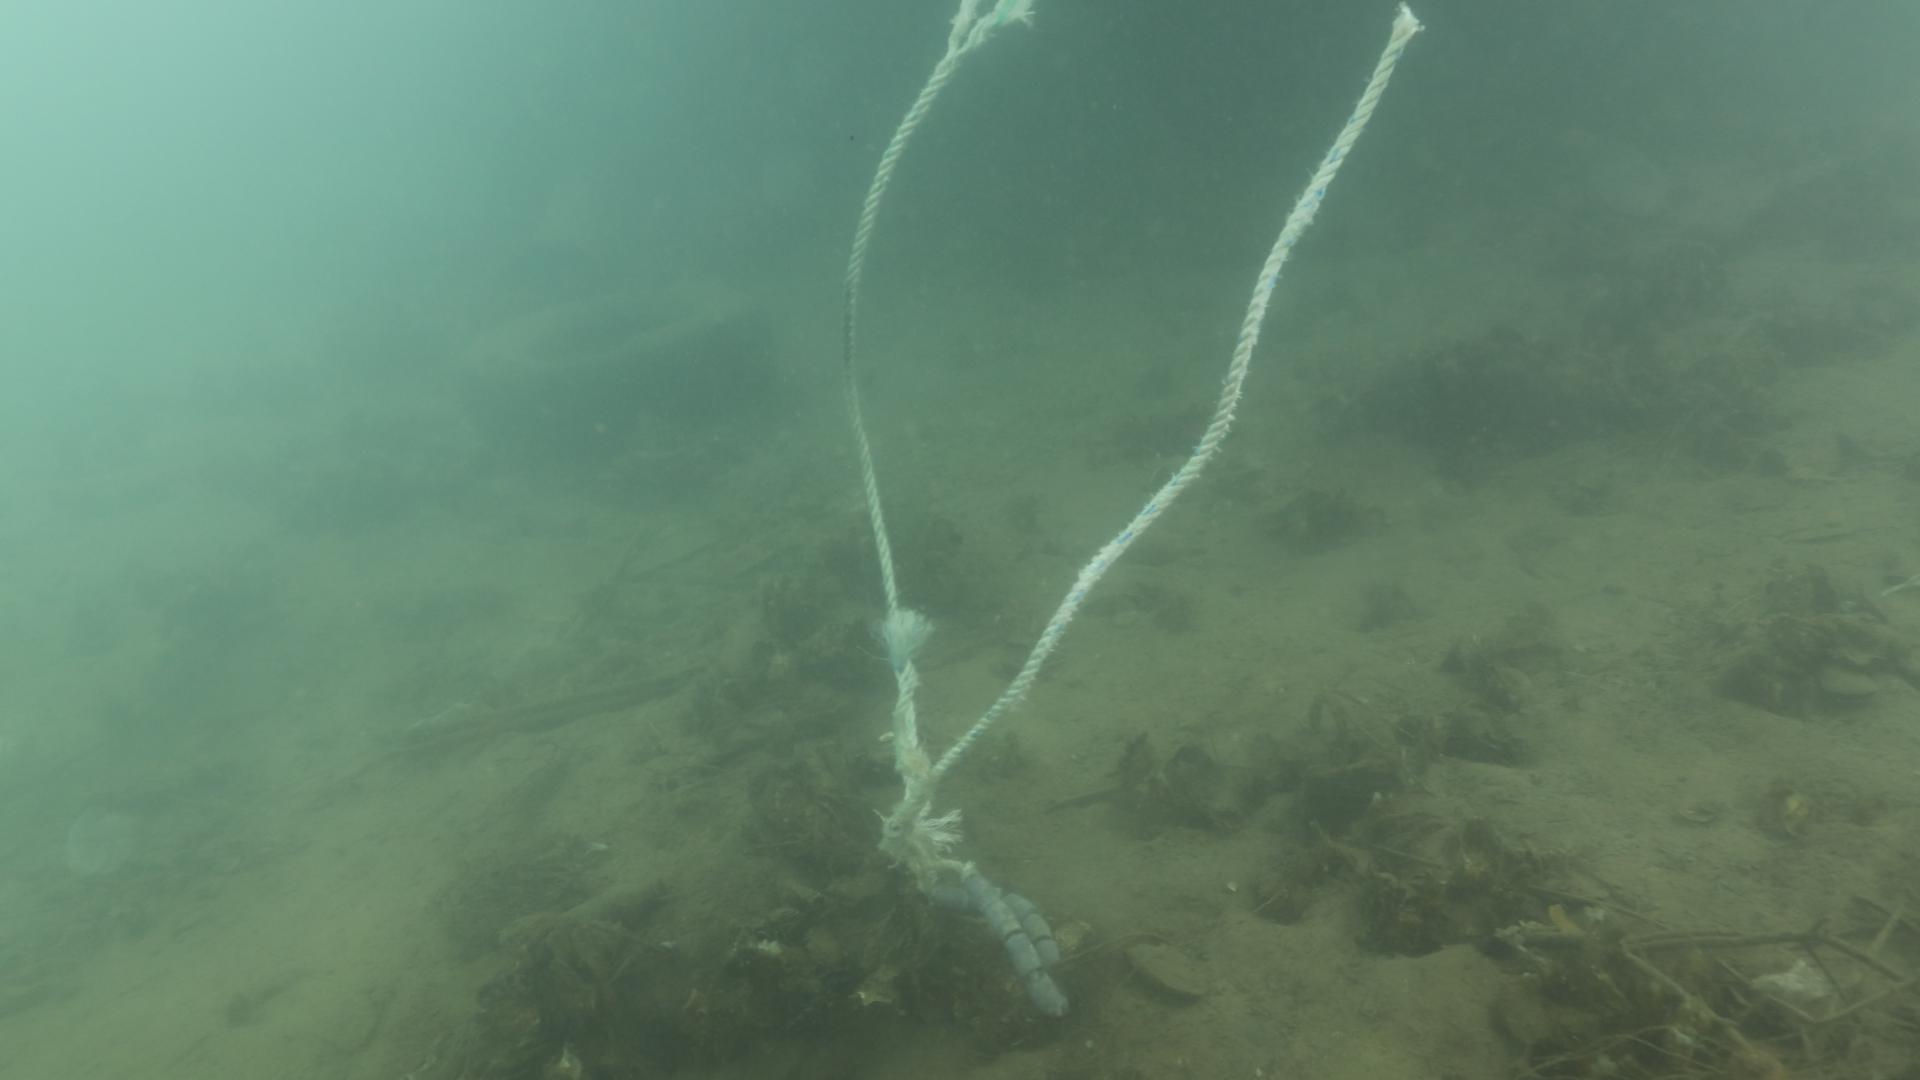bundle of ropes: (840, 1, 1424, 1000)
